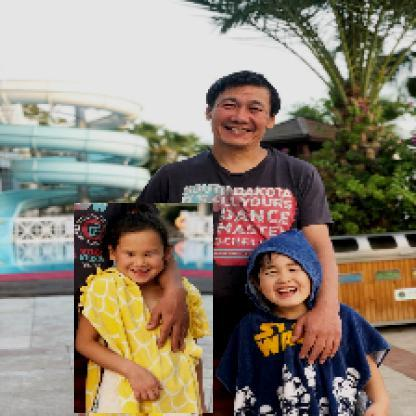child: (216, 228, 391, 416), (75, 204, 215, 415)
